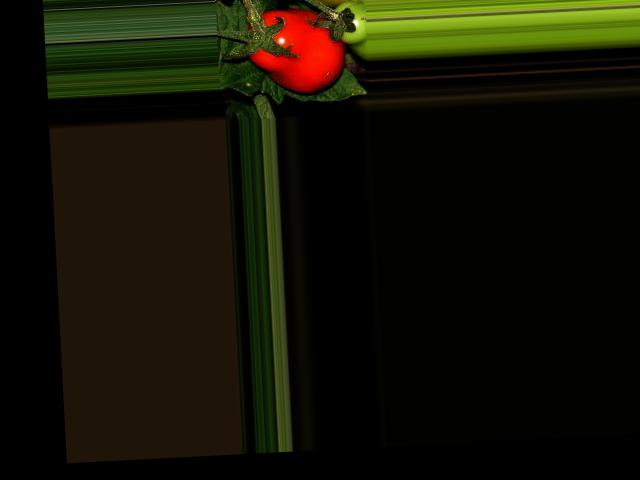tomato: (244, 6, 346, 96)
